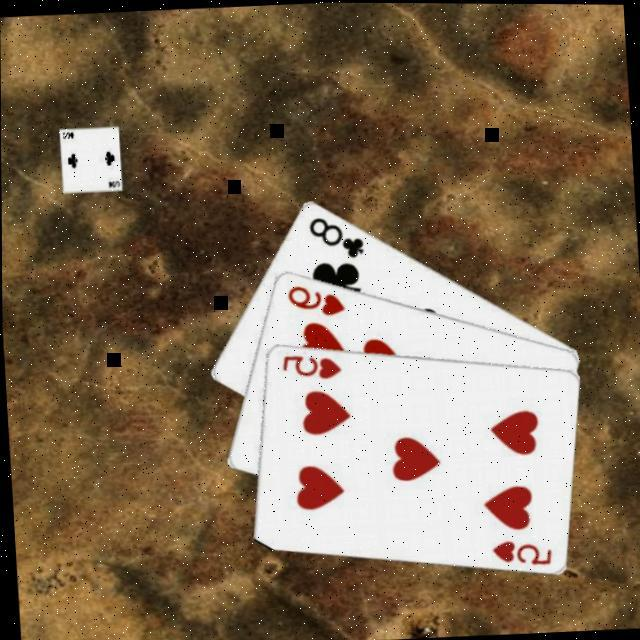5H: (486, 532, 553, 567), (276, 348, 342, 380)
8C: (304, 209, 366, 260)
9H: (280, 278, 346, 318)
